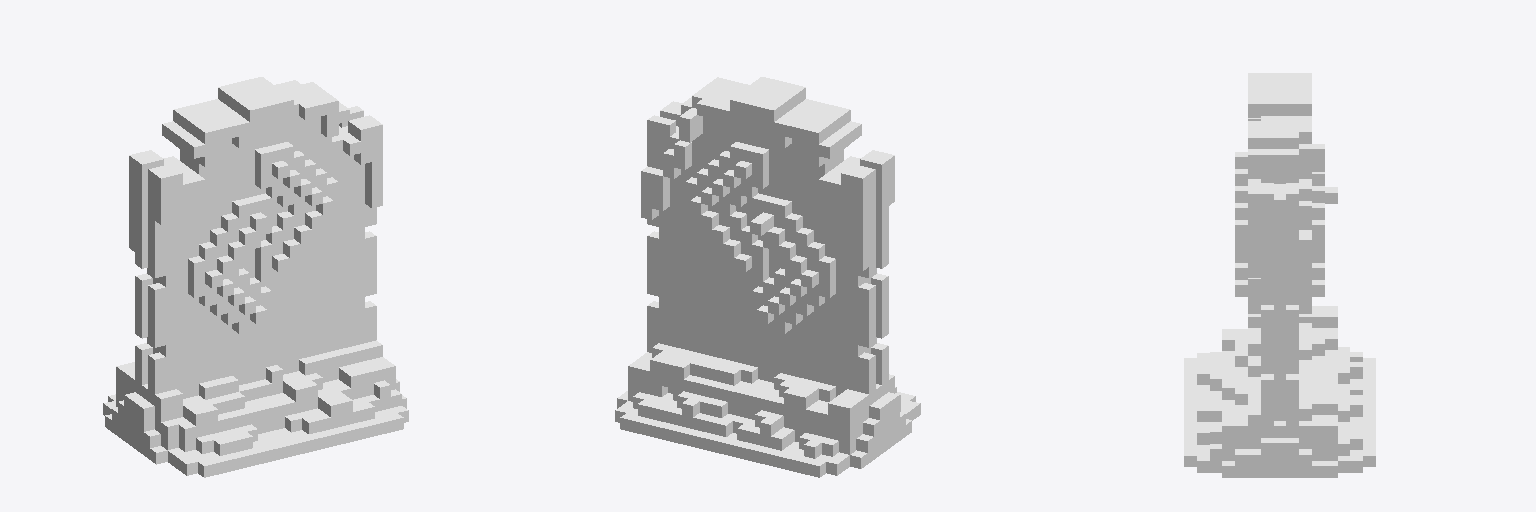
File: RuneStone5.obj
The picture shows the model from 3 angles: view 1: azimuth 30°, elevation 25°; view 2: azimuth 150°, elevation 25°; view 3: azimuth 270°, elevation 25°; orthographic projection.
Parts seen in each view (by area): view 1: object 1; view 2: object 1; view 3: object 1.
Boxes of the visible parts, box(x1,y1,x2,y2) form: object 1: box(103, 77, 408, 477); object 1: box(615, 77, 920, 477); object 1: box(1184, 73, 1375, 477).
Size of the model in its own units: 2.2 by 2.8 by 1.5.